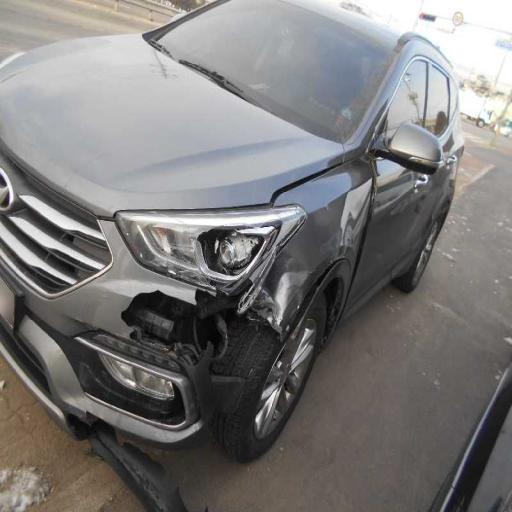broken: (116, 276, 290, 448)
dent: (111, 136, 339, 214)
